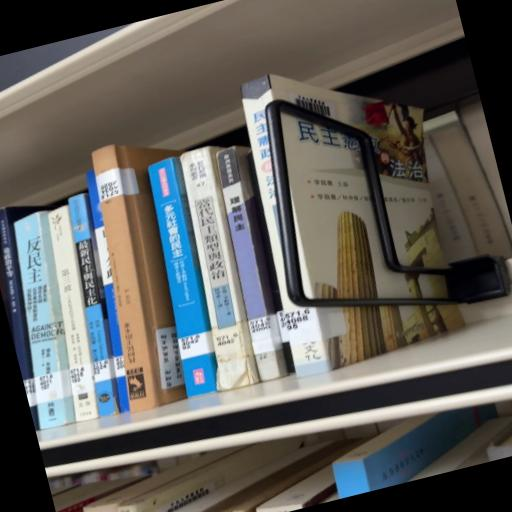reverse: (93, 146, 187, 412)
